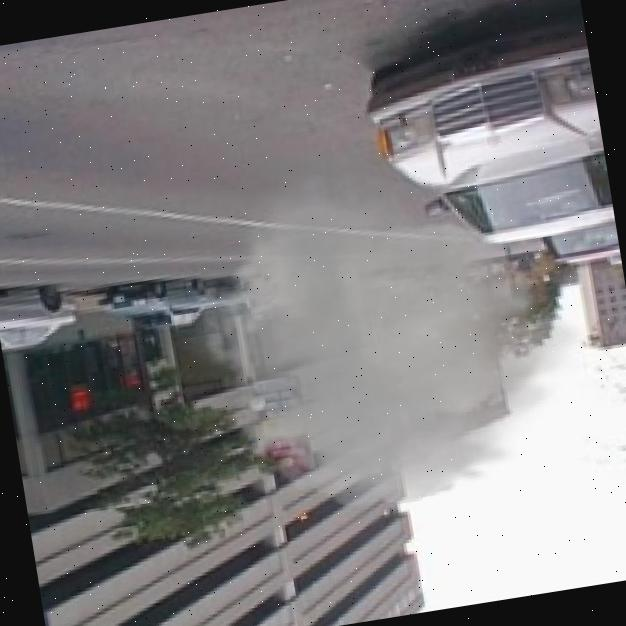smoke: (163, 134, 616, 542)
